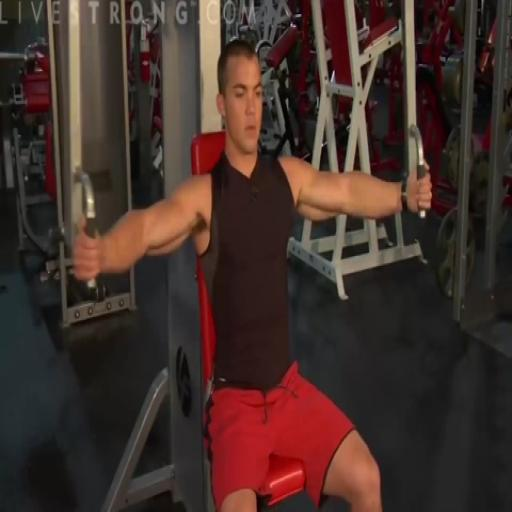exercise: (69, 37, 434, 511)
